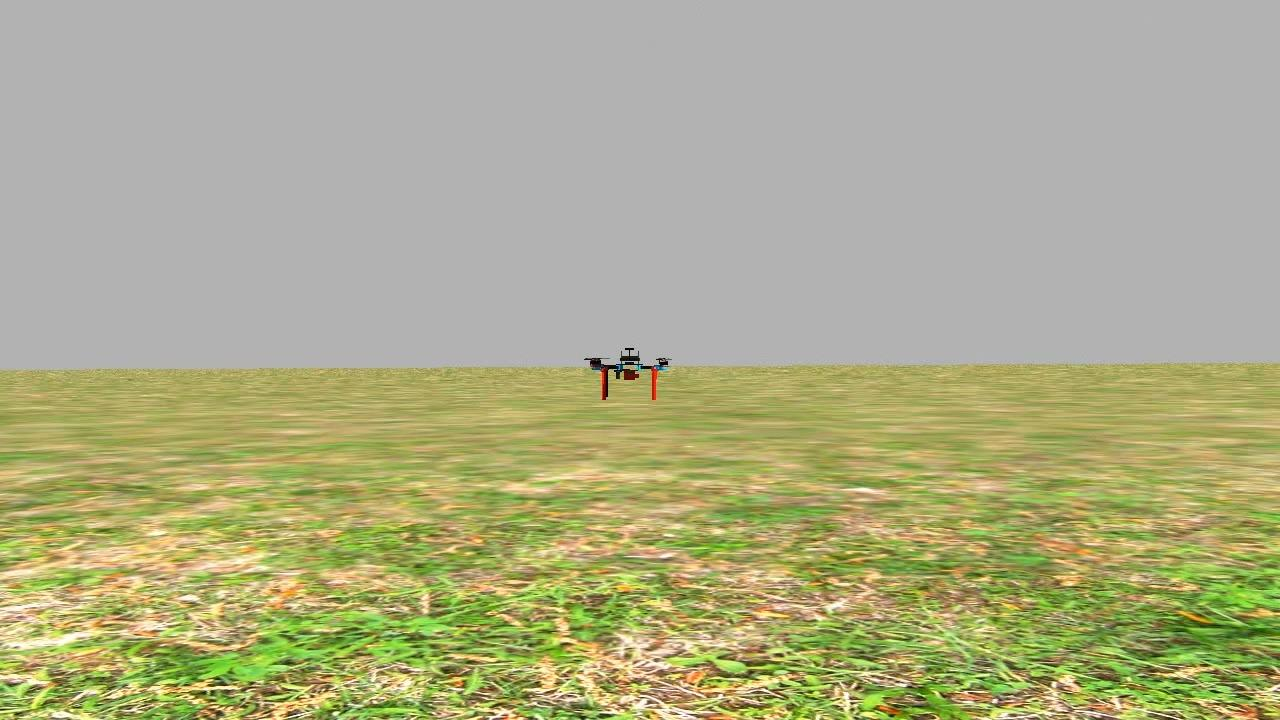UAV: (580, 341, 680, 410)
